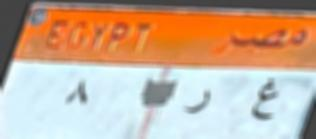8: (59, 75, 97, 112)
ghayn: (243, 75, 283, 123)
raa: (180, 87, 216, 117)
